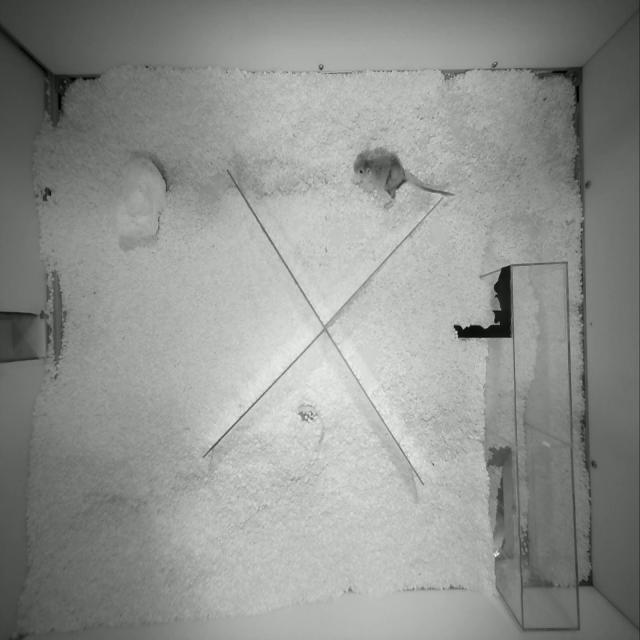adult_back: (354, 147, 454, 207)
